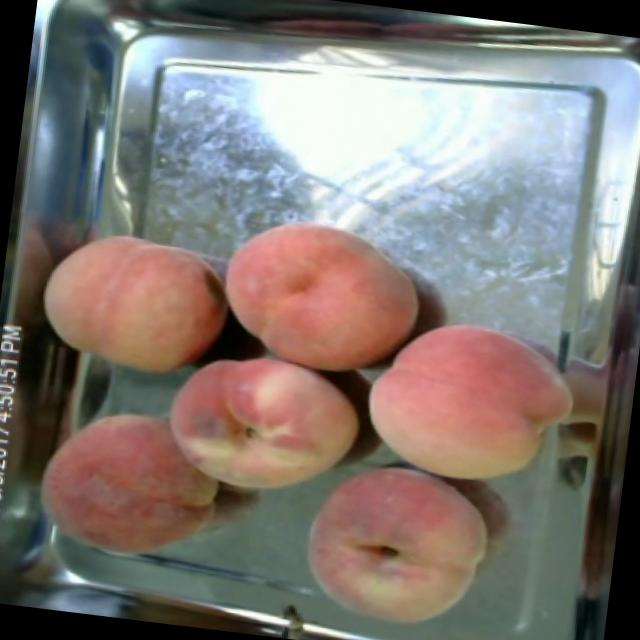Fruit: (348, 300, 592, 508), (283, 441, 510, 640), (18, 383, 240, 578), (206, 201, 439, 380), (22, 208, 242, 393), (146, 340, 377, 516)
